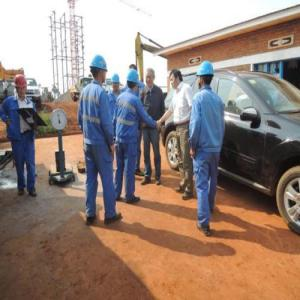blue: (90, 55, 109, 85), (197, 61, 216, 90), (127, 70, 142, 92), (111, 74, 121, 93)
none: (170, 69, 183, 90), (145, 69, 157, 88)
red: (14, 75, 29, 99)
